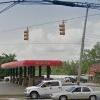Car: (46, 81, 100, 100)
